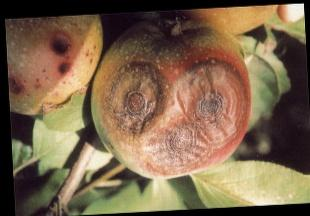rotten apple: (89, 16, 250, 177), (7, 15, 104, 116)
